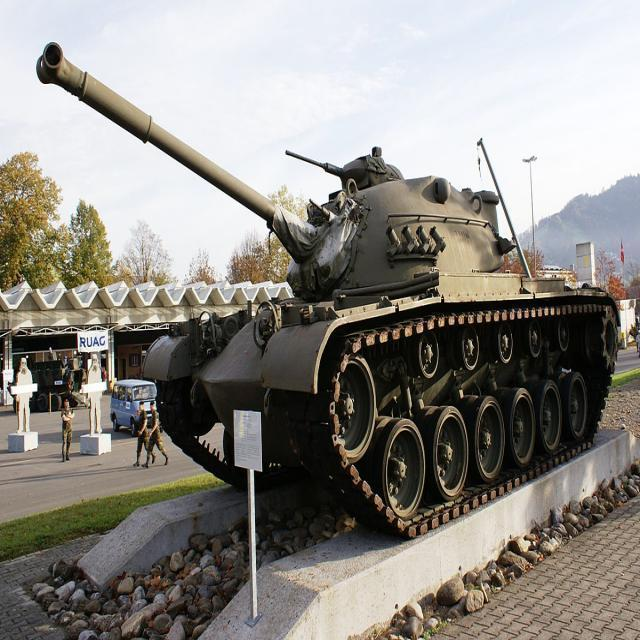Tanks: (33, 31, 620, 544)
